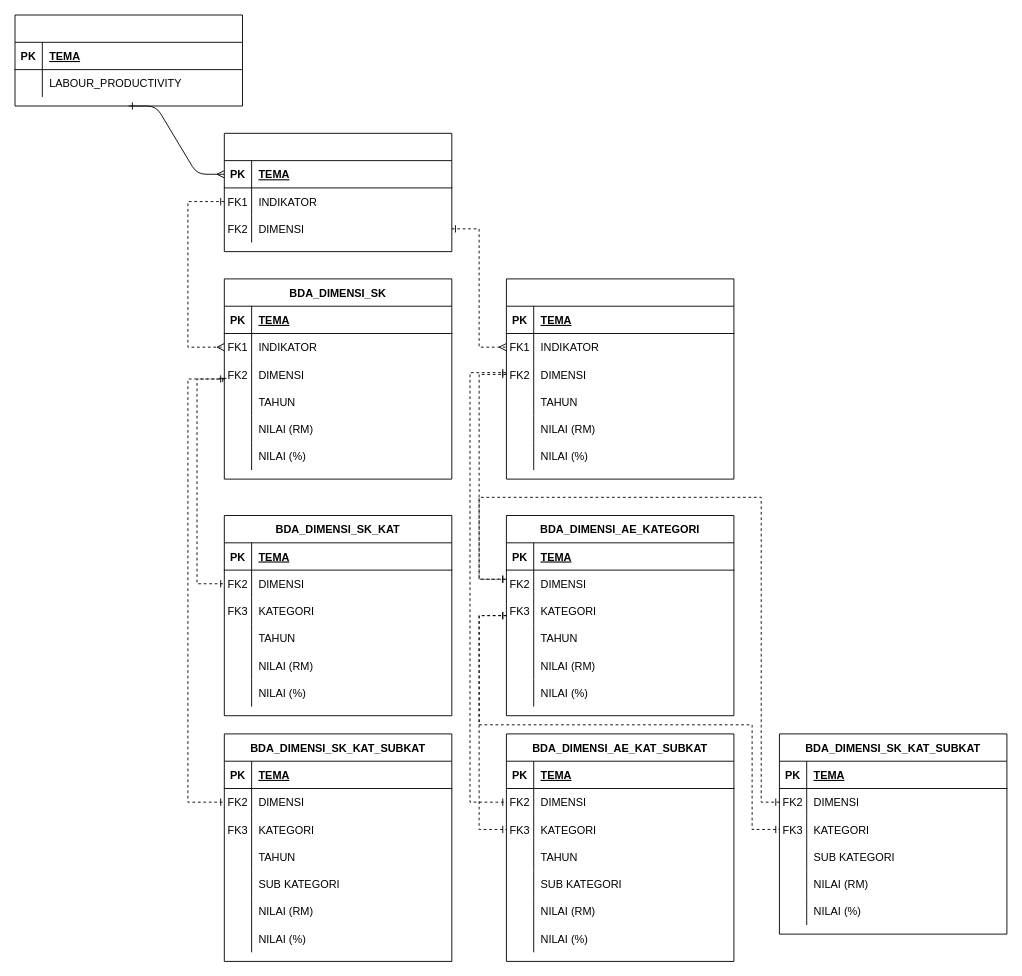
Image size: 1022x976. Some labels were removed from this diagram. Each missing label, with the box of its shape:
BDA_DIMENSI_AE: (506, 278, 734, 479)
BDA_INDIKATOR: (223, 132, 452, 252)
BDA_TEMA: (14, 14, 243, 106)
